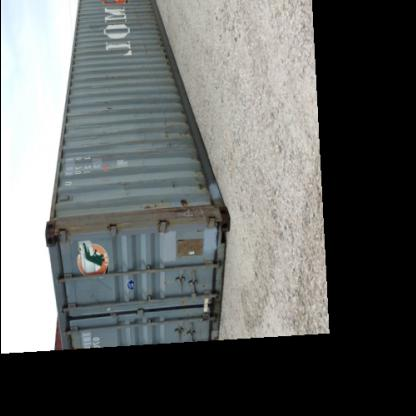Damage: (127, 194, 204, 220), (86, 6, 154, 32), (152, 106, 192, 147), (188, 157, 210, 196), (108, 176, 126, 193), (100, 96, 114, 114), (163, 179, 175, 191)
